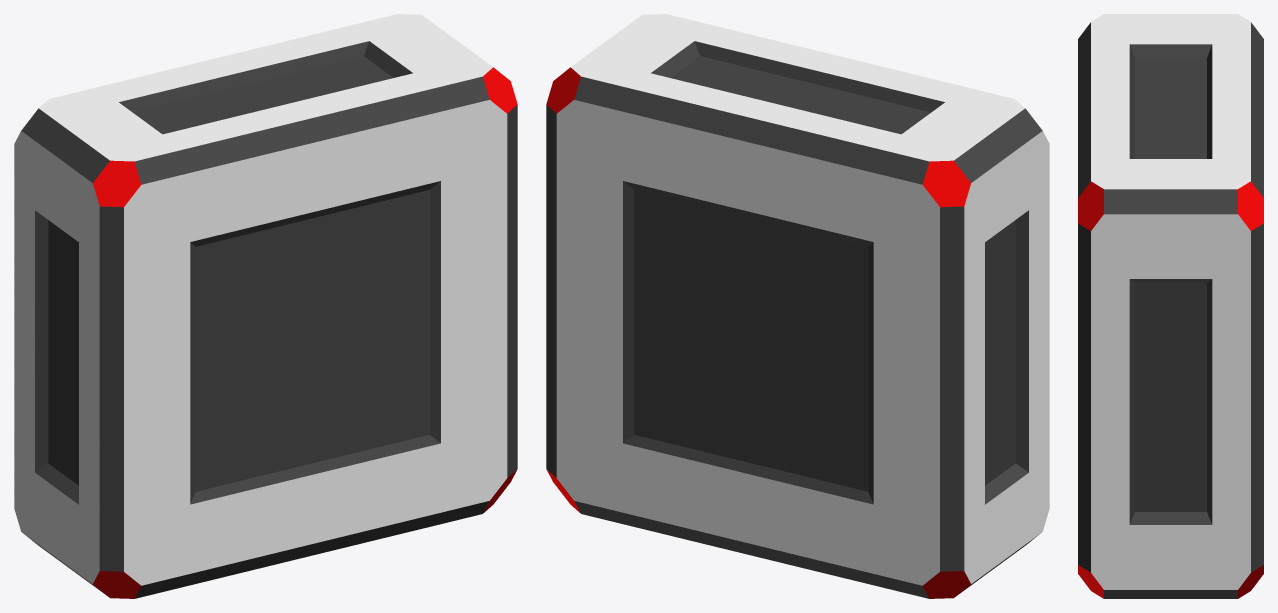
Rendered from mobileMineralContainer.obj.
3 views of the same model, side by side, from view 1: azimuth 30°, elevation 25°; view 2: azimuth 150°, elevation 25°; view 3: azimuth 270°, elevation 25° (orthographic). The views are drawn at different scales.
Visible parts, largest first — view 1: mineralContainer; view 2: mineralContainer; view 3: mineralContainer.
Boxes of the visible parts, bbox=[...] form: mineralContainer: bbox=[14, 14, 517, 598]; mineralContainer: bbox=[546, 14, 1049, 598]; mineralContainer: bbox=[1078, 14, 1263, 598].
Size of the model in its own units: 1.25 by 1.25 by 0.5157.
